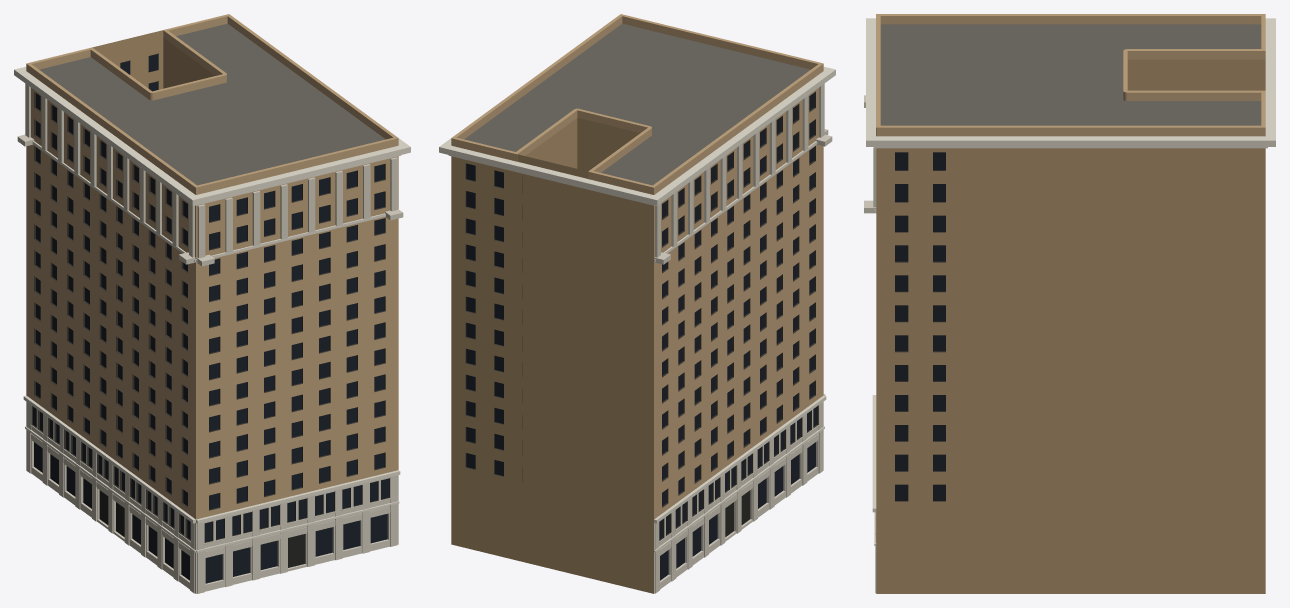
Rendered from donaghey-building-2.glb.
3 views of the same model, side by side, from view 1: azimuth 30°, elevation 25°; view 2: azimuth 150°, elevation 25°; view 3: azimuth 270°, elevation 25° (orthographic). The views are drawn at different scales.
Parts seen in each view (by area): view 1: donaghey_brick, donaghey_glass, donaghey_roof, donaghey_stone, donaghey_sash, donaghey_trim, donaghey_brick2, donaghey_dark, donaghey_trim2; view 2: donaghey_brick2, donaghey_brick, donaghey_roof, donaghey_glass, donaghey_stone, donaghey_sash, donaghey_trim, donaghey_dark; view 3: donaghey_brick2, donaghey_roof, donaghey_brick, donaghey_trim, donaghey_glass, donaghey_stone.
Boxes of the visible parts, left/top/right/bottom form: donaghey_brick: left=26, top=14, right=398, bottom=519; donaghey_glass: left=33, top=53, right=389, bottom=583; donaghey_roof: left=39, top=23, right=385, bottom=185; donaghey_stone: left=17, top=83, right=403, bottom=593; donaghey_sash: left=31, top=53, right=389, bottom=542; donaghey_trim: left=14, top=66, right=410, bottom=552; donaghey_brick2: left=92, top=30, right=214, bottom=89; donaghey_dark: left=99, top=490, right=305, bottom=567; donaghey_trim2: left=30, top=425, right=391, bottom=544; donaghey_brick2: left=451, top=118, right=653, bottom=593; donaghey_brick: left=451, top=14, right=823, bottom=519; donaghey_roof: left=464, top=23, right=810, bottom=185; donaghey_glass: left=466, top=93, right=816, bottom=580; donaghey_stone: left=654, top=83, right=832, bottom=593; donaghey_sash: left=465, top=91, right=818, bottom=540; donaghey_trim: left=439, top=66, right=835, bottom=552; donaghey_dark: left=725, top=490, right=750, bottom=536; donaghey_brick2: left=876, top=59, right=1265, bottom=593; donaghey_roof: left=880, top=24, right=1261, bottom=125; donaghey_brick: left=876, top=14, right=1265, bottom=136; donaghey_trim: left=866, top=18, right=1275, bottom=545; donaghey_glass: left=895, top=152, right=945, bottom=500; donaghey_stone: left=864, top=95, right=876, bottom=593.
Bounding box in the file's own units: 30.9 × 54.6 × 43.7.
